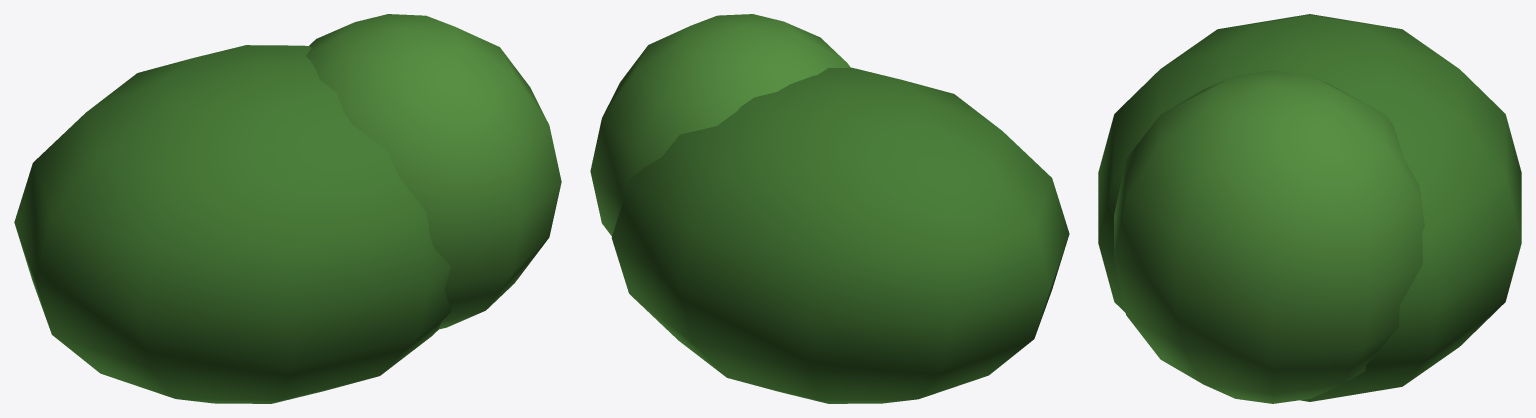
Rendered from bush.glb.
The picture shows the model from 3 angles, left to right: view 1: azimuth 30°, elevation 25°; view 2: azimuth 150°, elevation 25°; view 3: azimuth 270°, elevation 25°; orthographic projection. The views are drawn at different scales.
Parts seen in each view (by area): view 1: bush; view 2: bush; view 3: bush.
Boxes of the visible parts, bbox=[...] form: bush: bbox=[14, 14, 561, 403]; bush: bbox=[590, 14, 1069, 403]; bush: bbox=[1098, 14, 1521, 403].
Bounding box in the file's own units: 1.57 × 1.03 × 1.14.
